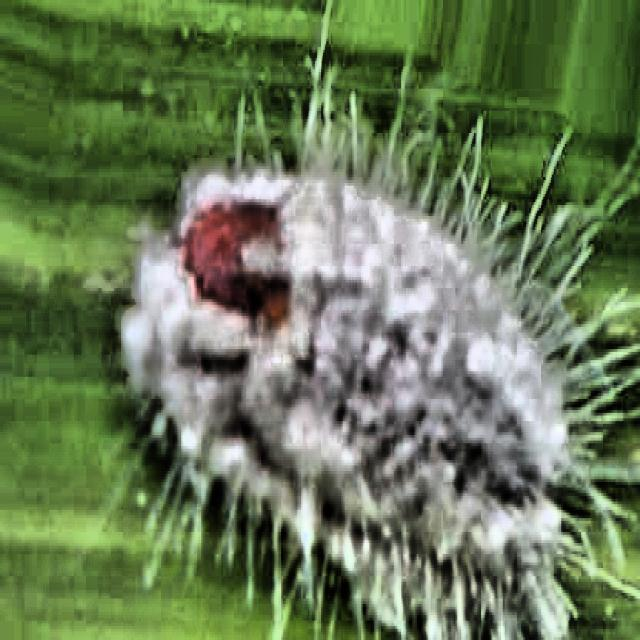Mealy-bug: (92, 58, 638, 638)
